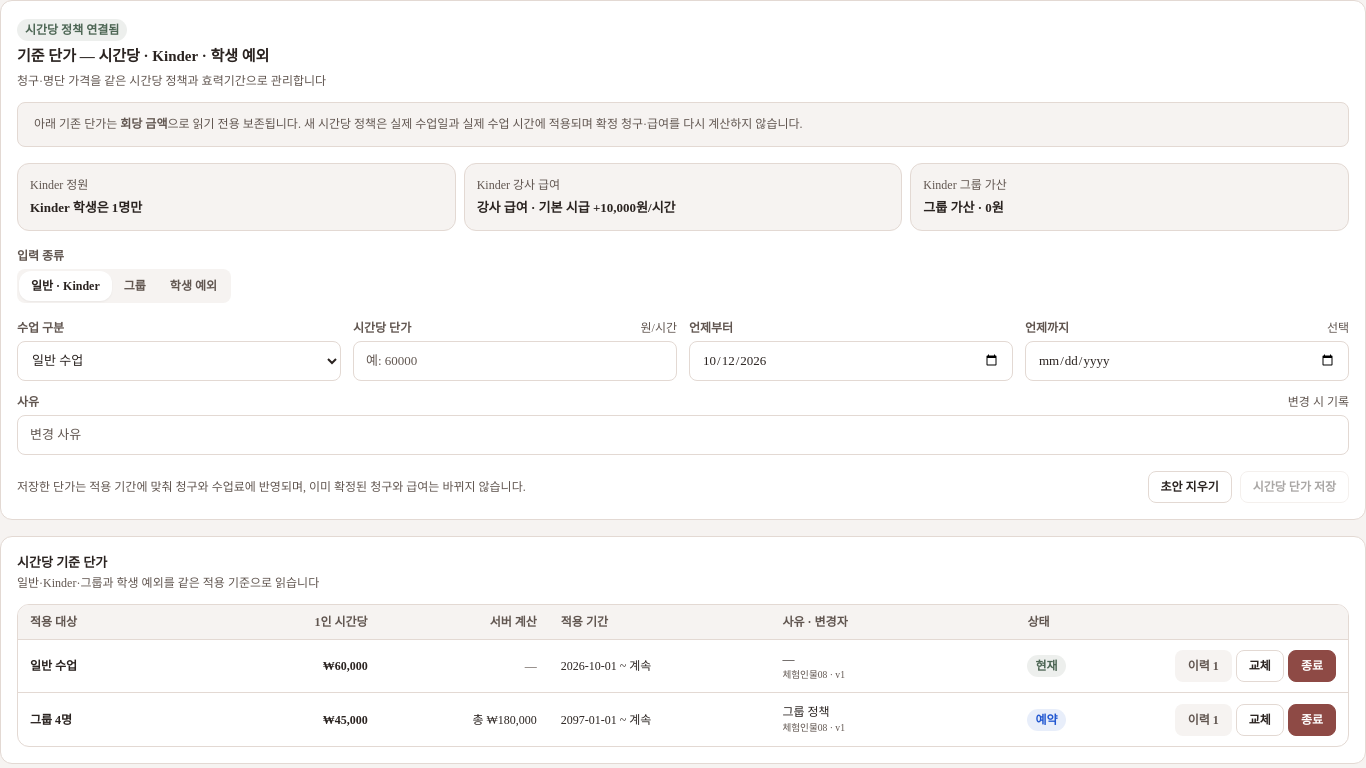
Test: 종료일이 시작일보다 앞서면 검증하고 저장을 보내지 않는다
The image size is (1366, 768).
Type "2026-11-01" into the date field labelled "언제부터" at coordinates (851, 360), box [689,340,1013,380]
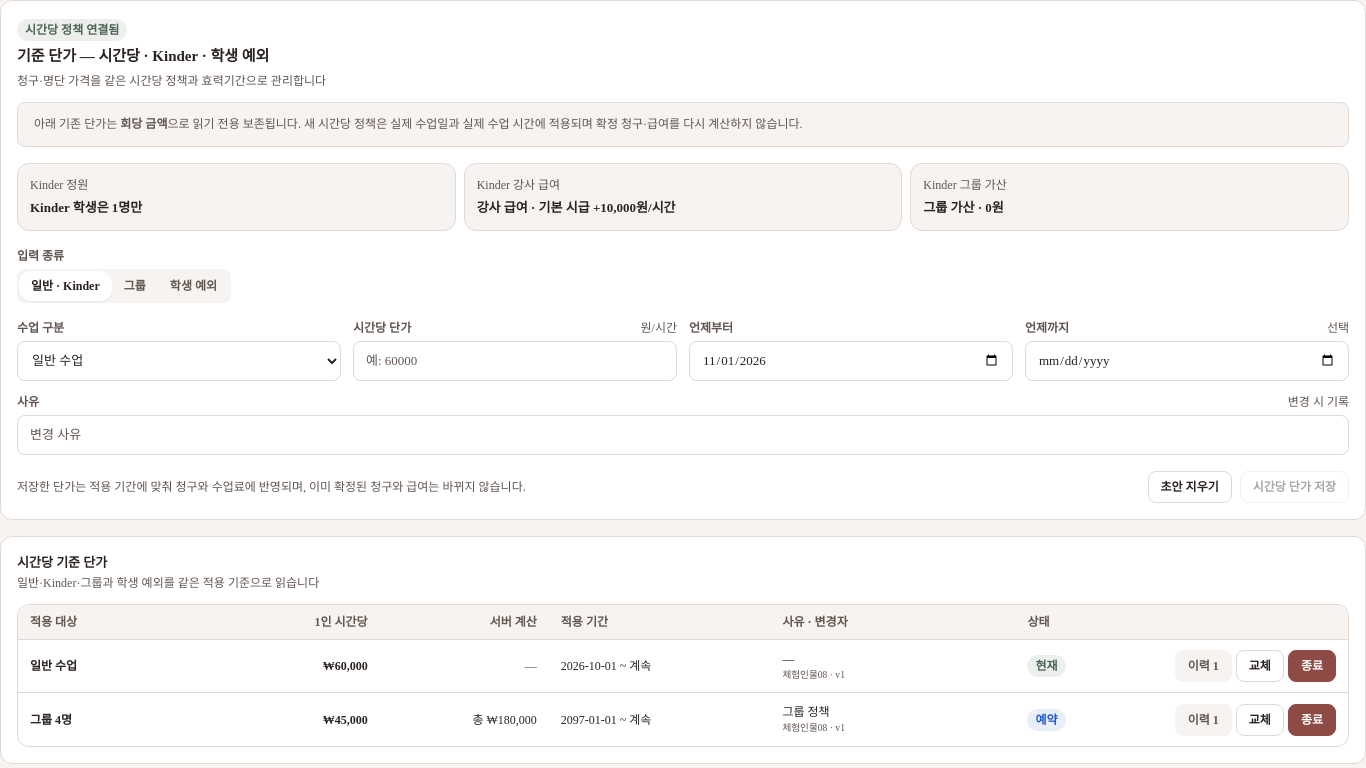
Type "2026-10-31" into the date field labelled "언제까지" at coordinates (1187, 360), box [1025,340,1349,380]
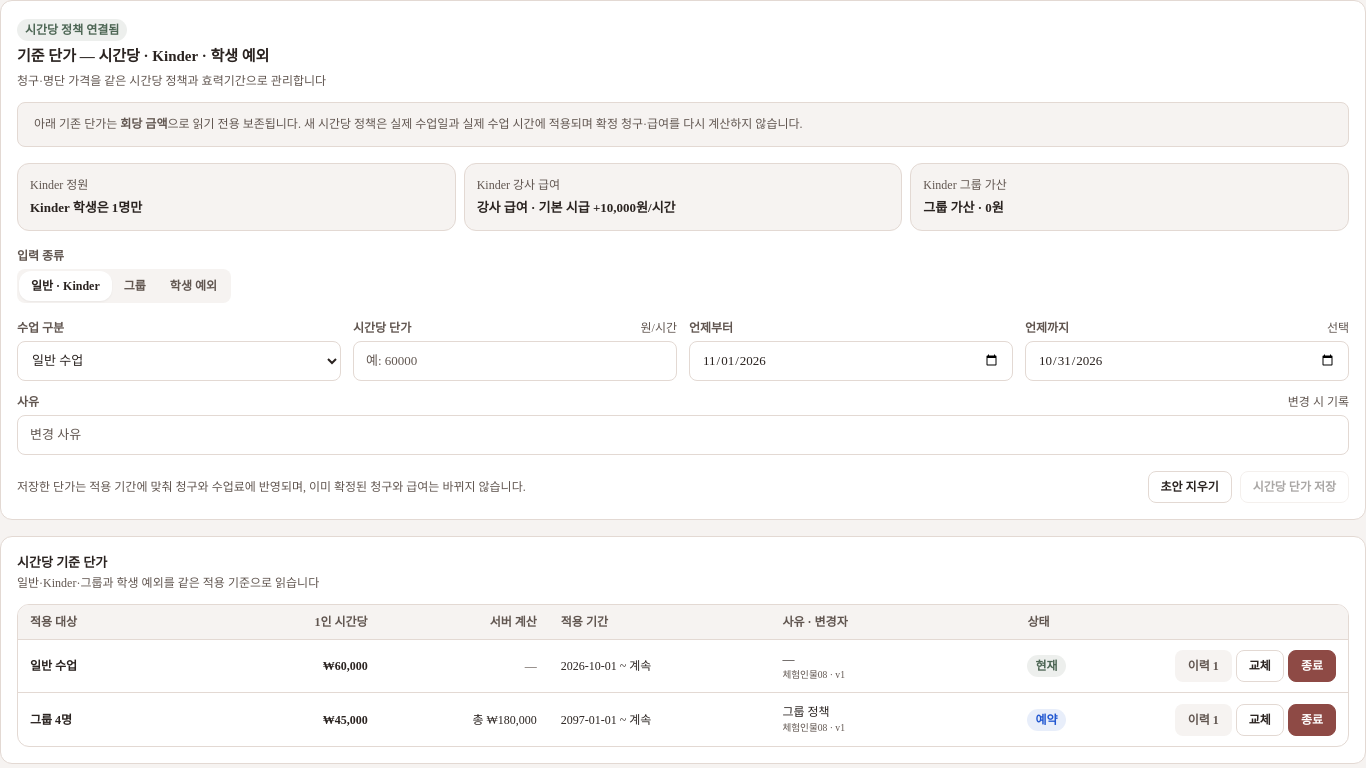
Leave the date field labelled "언제까지", box [1025,340,1349,380]
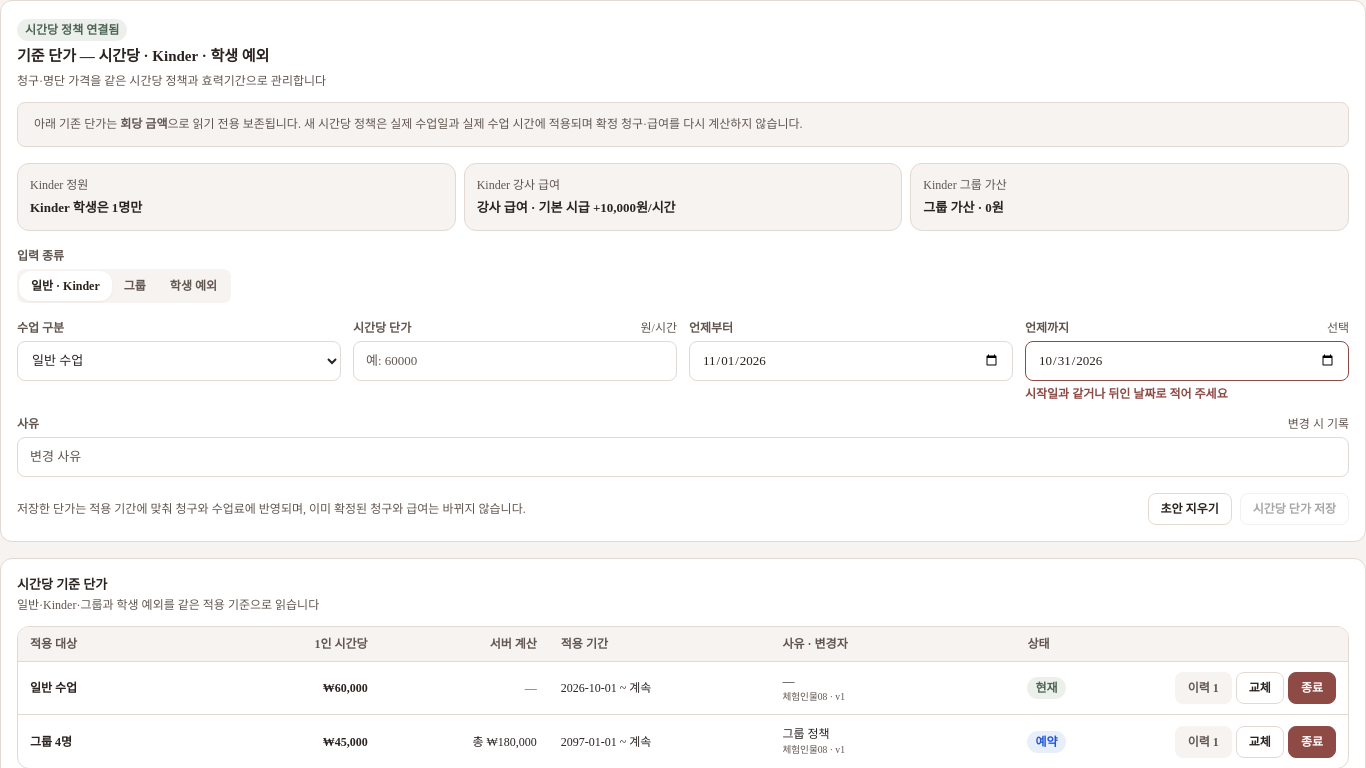
Expected: the button "시간당 단가 저장" is disabled, [1240,492,1349,524]
Expected: the text "시작일과 같거나 뒤인 날짜로 적어 주세요" is shown, [1025,386,1228,400]
